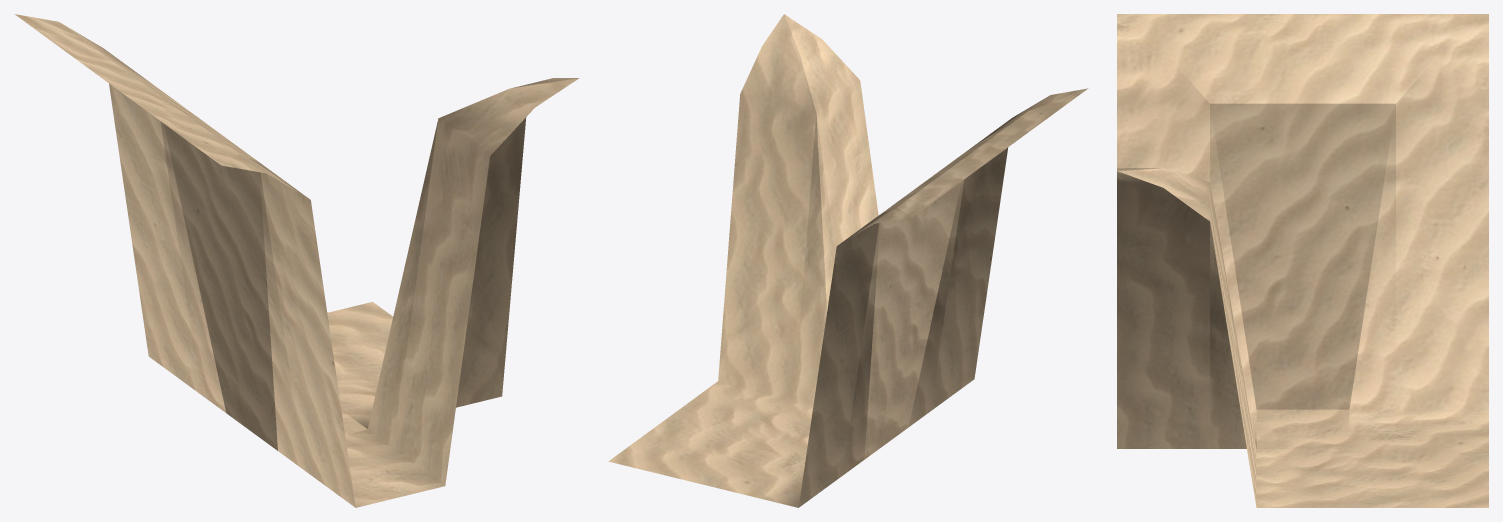
The model's file is Sand3b.obj.
3 views of the same model, side by side, from view 1: azimuth 30°, elevation 25°; view 2: azimuth 150°, elevation 25°; view 3: azimuth 270°, elevation 25° (orthographic). The views are drawn at different scales.
Visible parts, largest first — view 1: Grid_Grid.015_Grid_Grid.009; view 2: Grid_Grid.015_Grid_Grid.009; view 3: Grid_Grid.015_Grid_Grid.009.
Part boxes in pixels (<box>): Grid_Grid.015_Grid_Grid.009: <box>14,14,579,507</box>; Grid_Grid.015_Grid_Grid.009: <box>608,14,1088,507</box>; Grid_Grid.015_Grid_Grid.009: <box>1117,14,1488,507</box>.
Bounding box in the file's own units: 1 × 1 × 1.
Materials: 1 (1 with a texture image).
